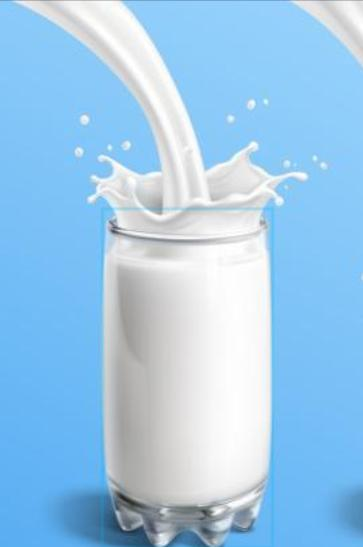produk_susu: (100, 173, 269, 522)
